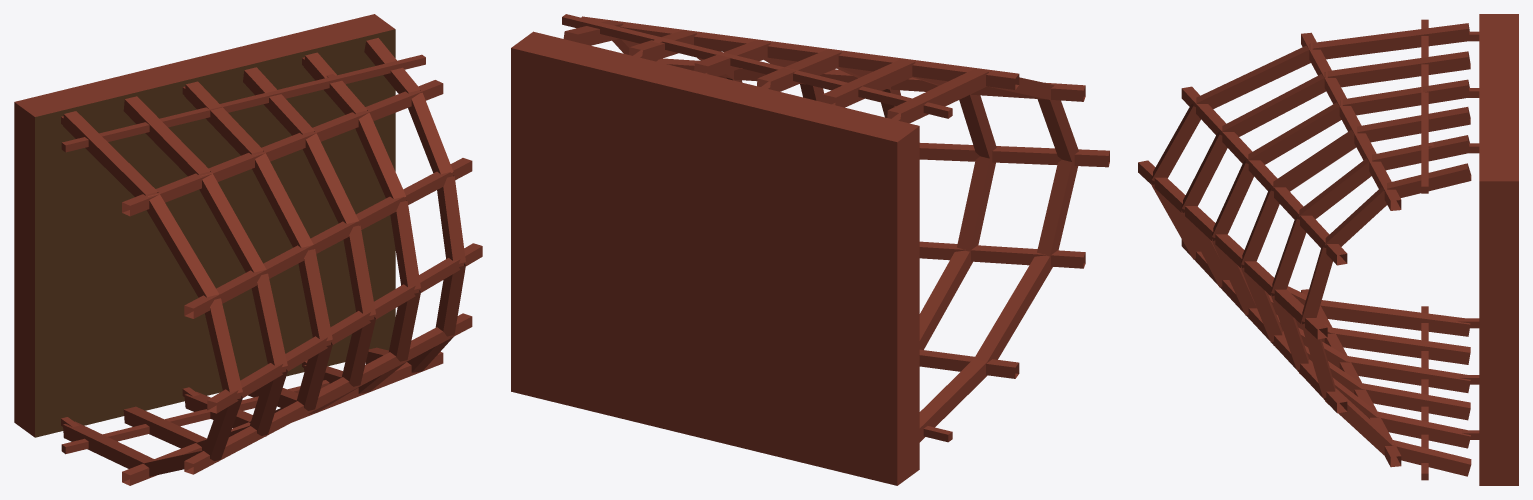
The model's file is south.glb.
The picture shows the model from 3 angles, left to right: view 1: azimuth 30°, elevation 25°; view 2: azimuth 150°, elevation 25°; view 3: azimuth 270°, elevation 25°; orthographic projection. The views are drawn at different scales.
Parts seen in each view (by area): view 1: bridge_10_south; view 2: bridge_10_south; view 3: bridge_10_south.
Part boxes in pixels (bbox=[...]): bridge_10_south: bbox=[14, 14, 482, 485]; bridge_10_south: bbox=[511, 14, 1109, 485]; bridge_10_south: bbox=[1138, 14, 1518, 485].
Size of the model in its own units: 16.19 by 13.74 by 15.4.
